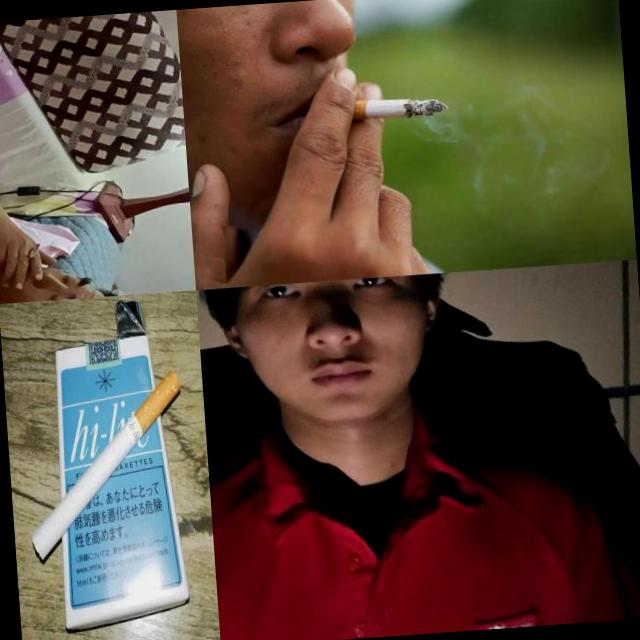cigarette: (20, 370, 192, 560), (310, 90, 448, 124), (24, 242, 41, 264)
